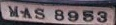character: (95, 10, 107, 23), (67, 10, 78, 22), (82, 10, 93, 22), (34, 7, 44, 20), (8, 5, 18, 17), (54, 9, 64, 21), (22, 7, 31, 19)
